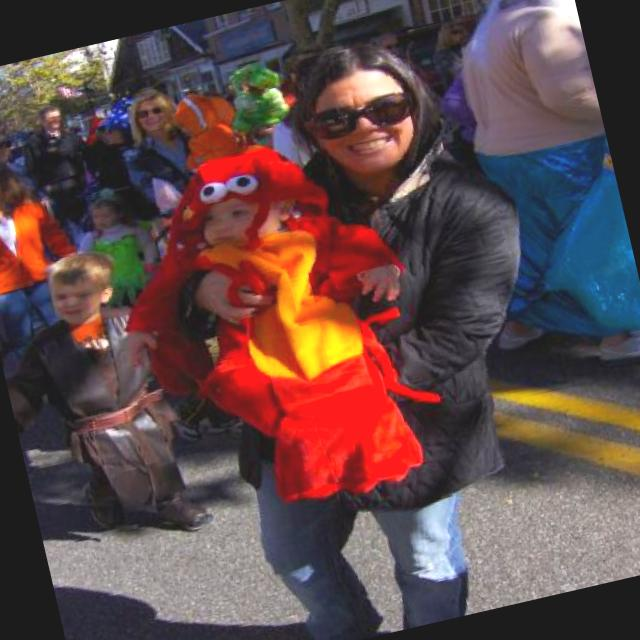Person: (148, 7, 609, 640), (0, 225, 206, 555), (0, 140, 110, 420), (116, 85, 215, 242), (14, 96, 98, 214)
